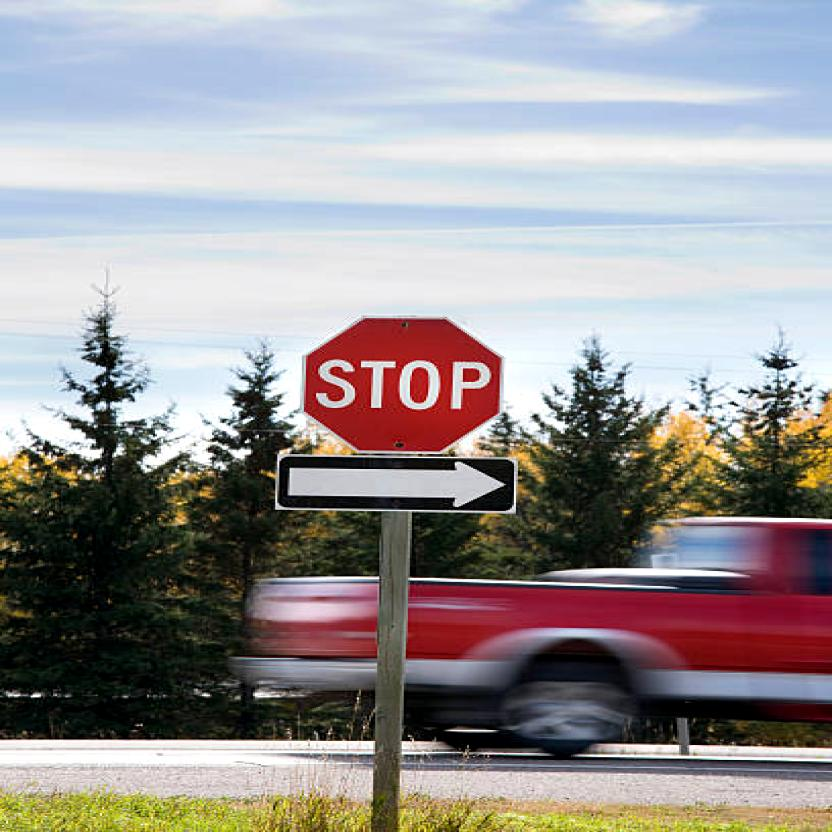Pole: (368, 511, 409, 830)
Sign: (301, 316, 505, 454)
